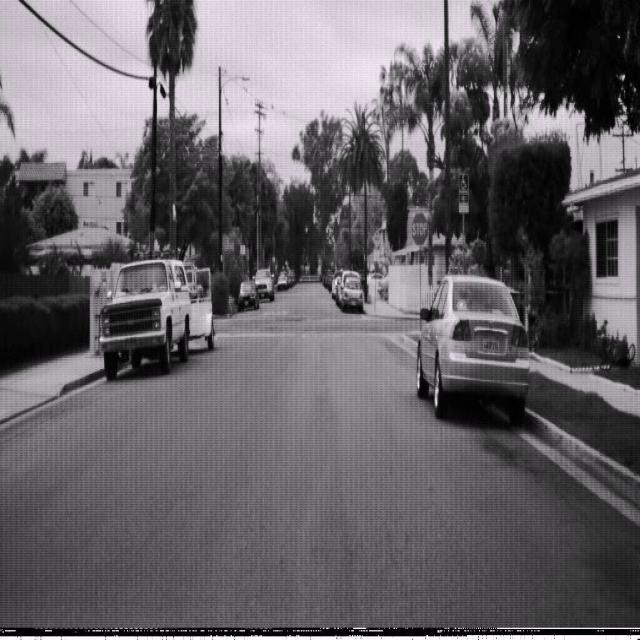stop_sign: (411, 211, 428, 246)
